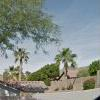Tree: (37, 41, 77, 78)
